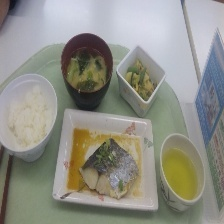rice: (0, 83, 52, 148)
